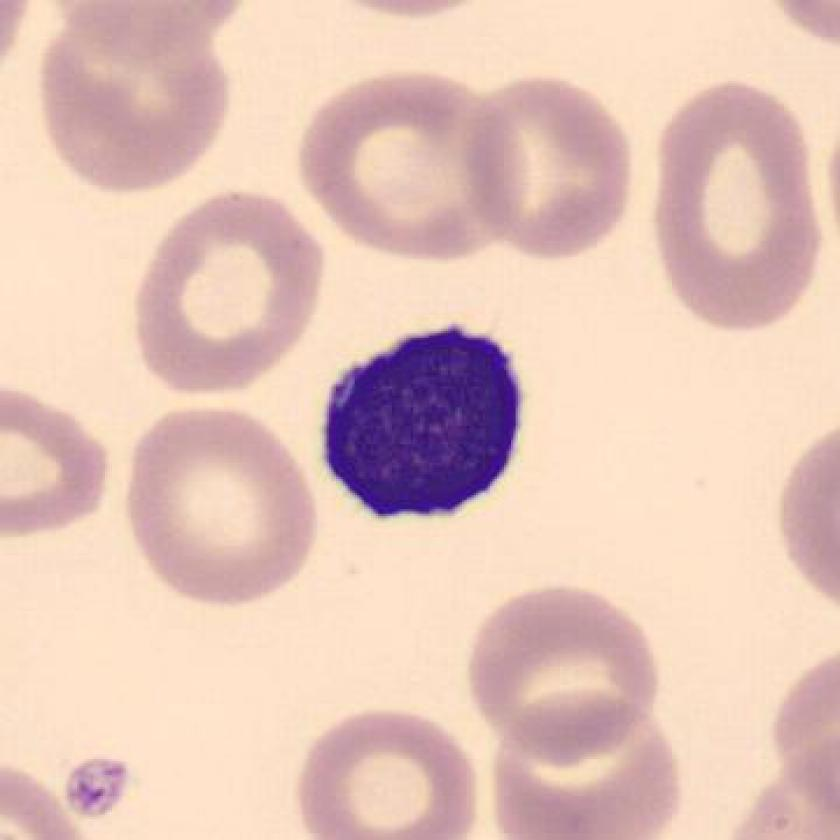lymphocyte: (307, 311, 545, 543)
